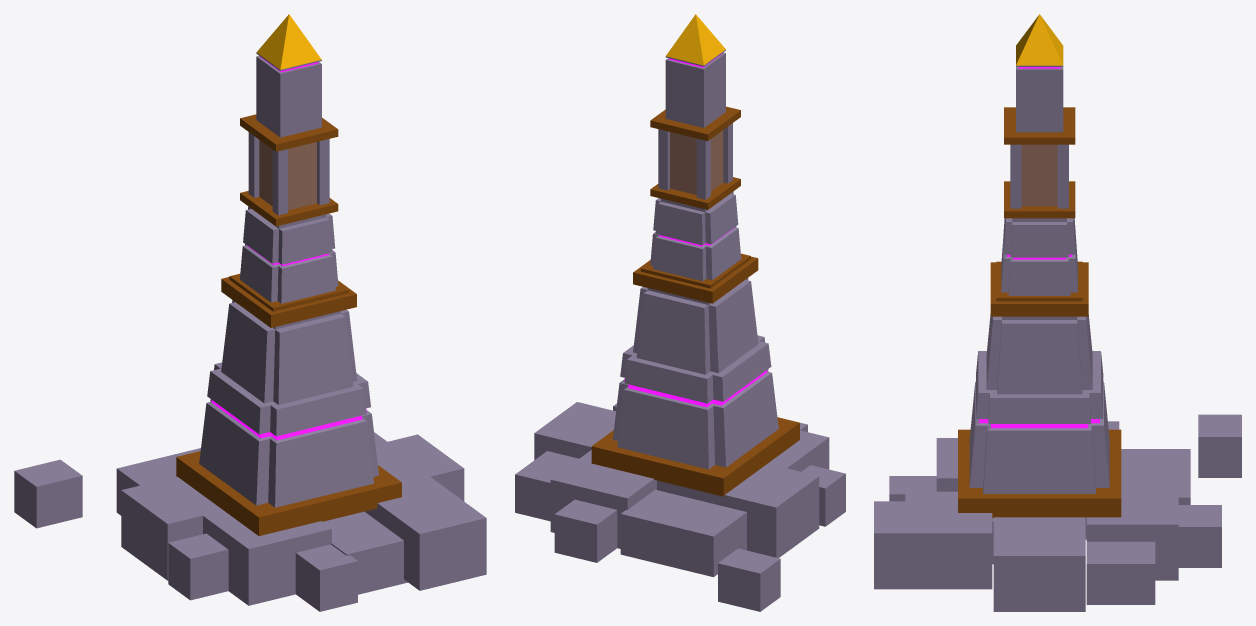
The model's file is Obelisk 2.fbx.
The picture shows the model from 3 angles, left to right: view 1: azimuth 30°, elevation 25°; view 2: azimuth 150°, elevation 25°; view 3: azimuth 270°, elevation 25°; orthographic projection. The views are drawn at different scales.
Parts seen in each view (by area): view 1: Cube.210; view 2: Cube.210; view 3: Cube.210.
Part boxes in pixels (x1,y1,x2,y2): Cube.210: [14, 14, 486, 611]; Cube.210: [515, 14, 845, 611]; Cube.210: [874, 14, 1241, 611].
Size of the model in its own units: 17.07 by 26.73 by 16.98.
